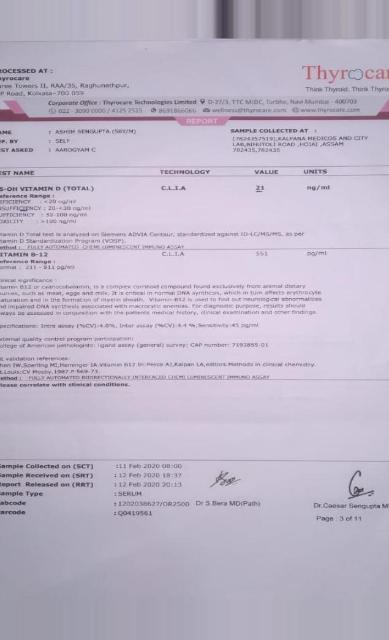Clinical_Conditions: (0, 284, 325, 317)
Name: (54, 127, 137, 135)
Ref_By: (54, 137, 73, 144)
Technology: (159, 184, 189, 194), (161, 250, 188, 260)
Test_Asked: (54, 146, 98, 153)
Test_Name: (0, 179, 103, 228), (0, 250, 78, 277)
Unit: (307, 183, 333, 193), (307, 249, 330, 260)
Value: (255, 250, 275, 260), (255, 183, 267, 195)
